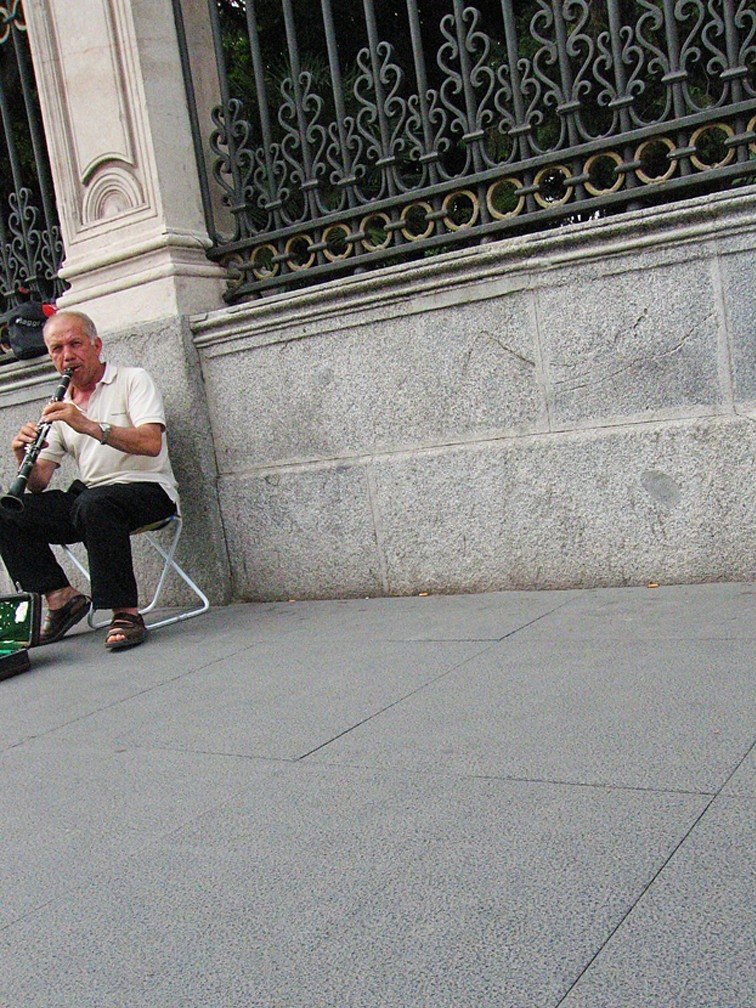face_no_mask: (44, 310, 104, 383)
